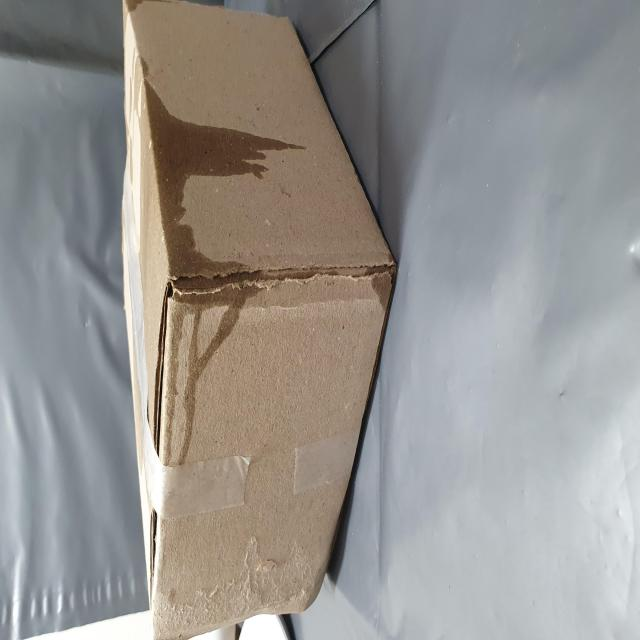wet: (110, 227, 299, 465)
